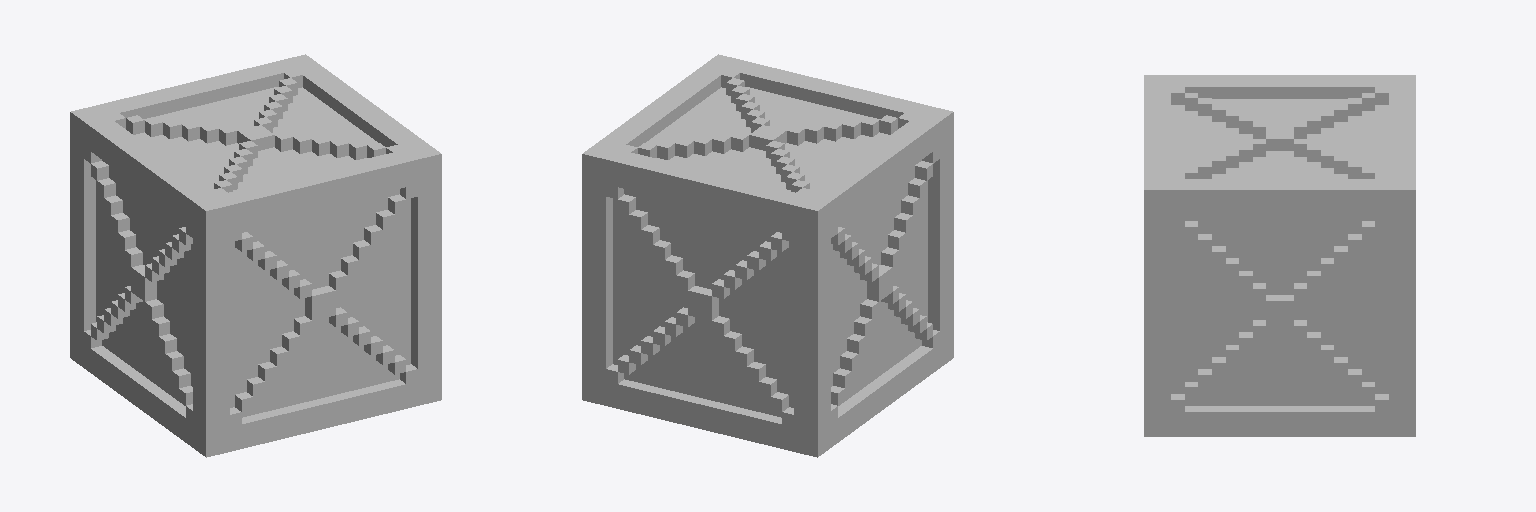
Rendered from sando2 5shb.obj.
The picture shows the model from 3 angles: view 1: azimuth 30°, elevation 25°; view 2: azimuth 150°, elevation 25°; view 3: azimuth 270°, elevation 25°; orthographic projection.
Parts seen in each view (by area): view 1: object 1; view 2: object 1; view 3: object 1.
Part boxes in pixels (bbox=[...]): object 1: bbox=[70, 54, 441, 457]; object 1: bbox=[582, 54, 953, 457]; object 1: bbox=[1144, 75, 1415, 436].
Size of the model in its own units: 2 by 2 by 2.